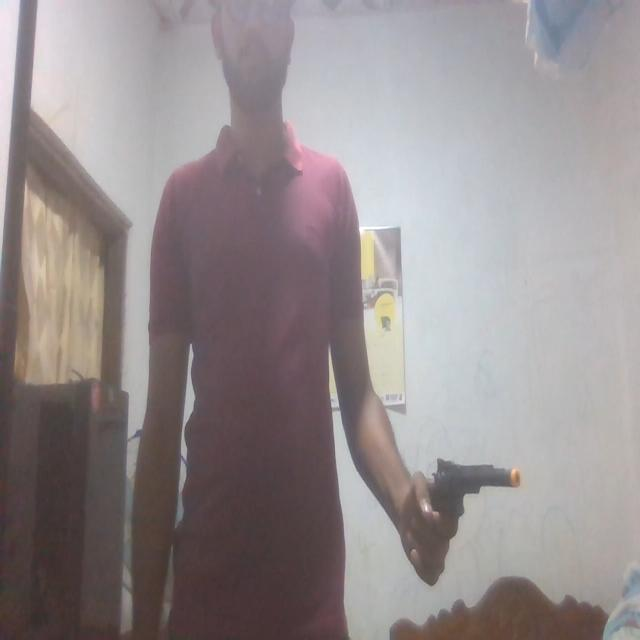Gun_Holder: (409, 454, 525, 580)
Person: (127, 0, 463, 640)
